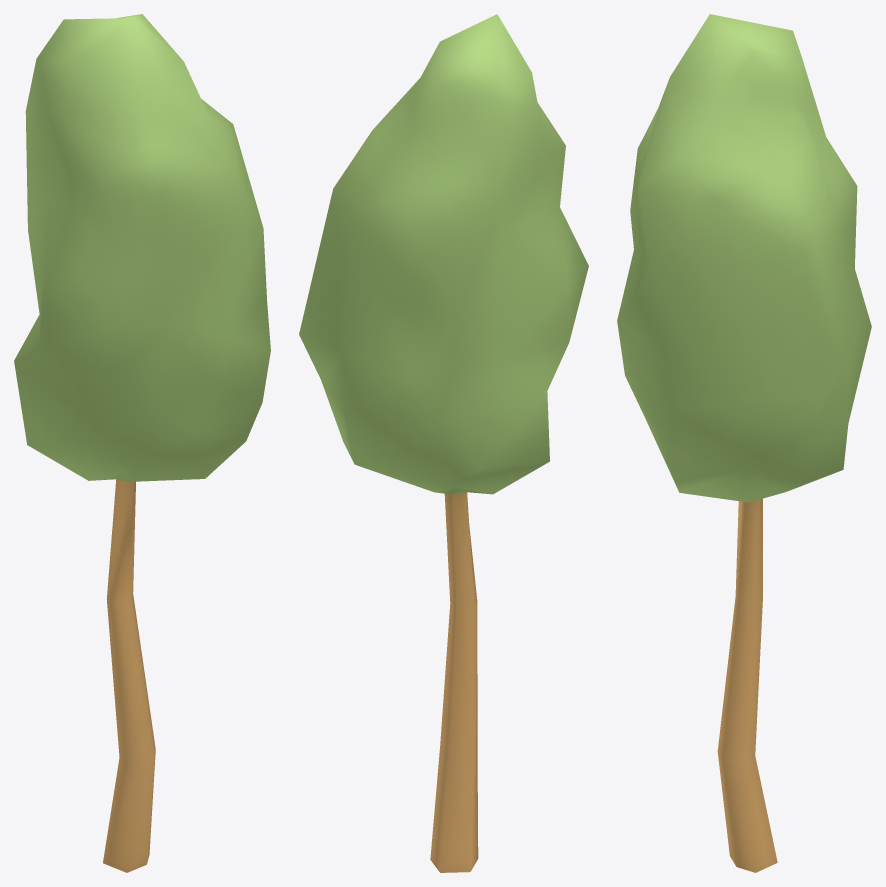
The picture shows the model from 3 angles, left to right: view 1: azimuth 30°, elevation 25°; view 2: azimuth 150°, elevation 25°; view 3: azimuth 270°, elevation 25°; orthographic projection. The views are drawn at different scales.
Visible parts, largest first — view 1: Poros1.002; view 2: Poros1.002; view 3: Poros1.002.
Boxes of the visible parts, x1,y1,x2,y2 form: Poros1.002: [14, 14, 270, 872]; Poros1.002: [299, 14, 588, 872]; Poros1.002: [617, 14, 871, 872].
Size of the model in its own units: 2.84 by 10.04 by 2.77.
1 material, 1 textured.
